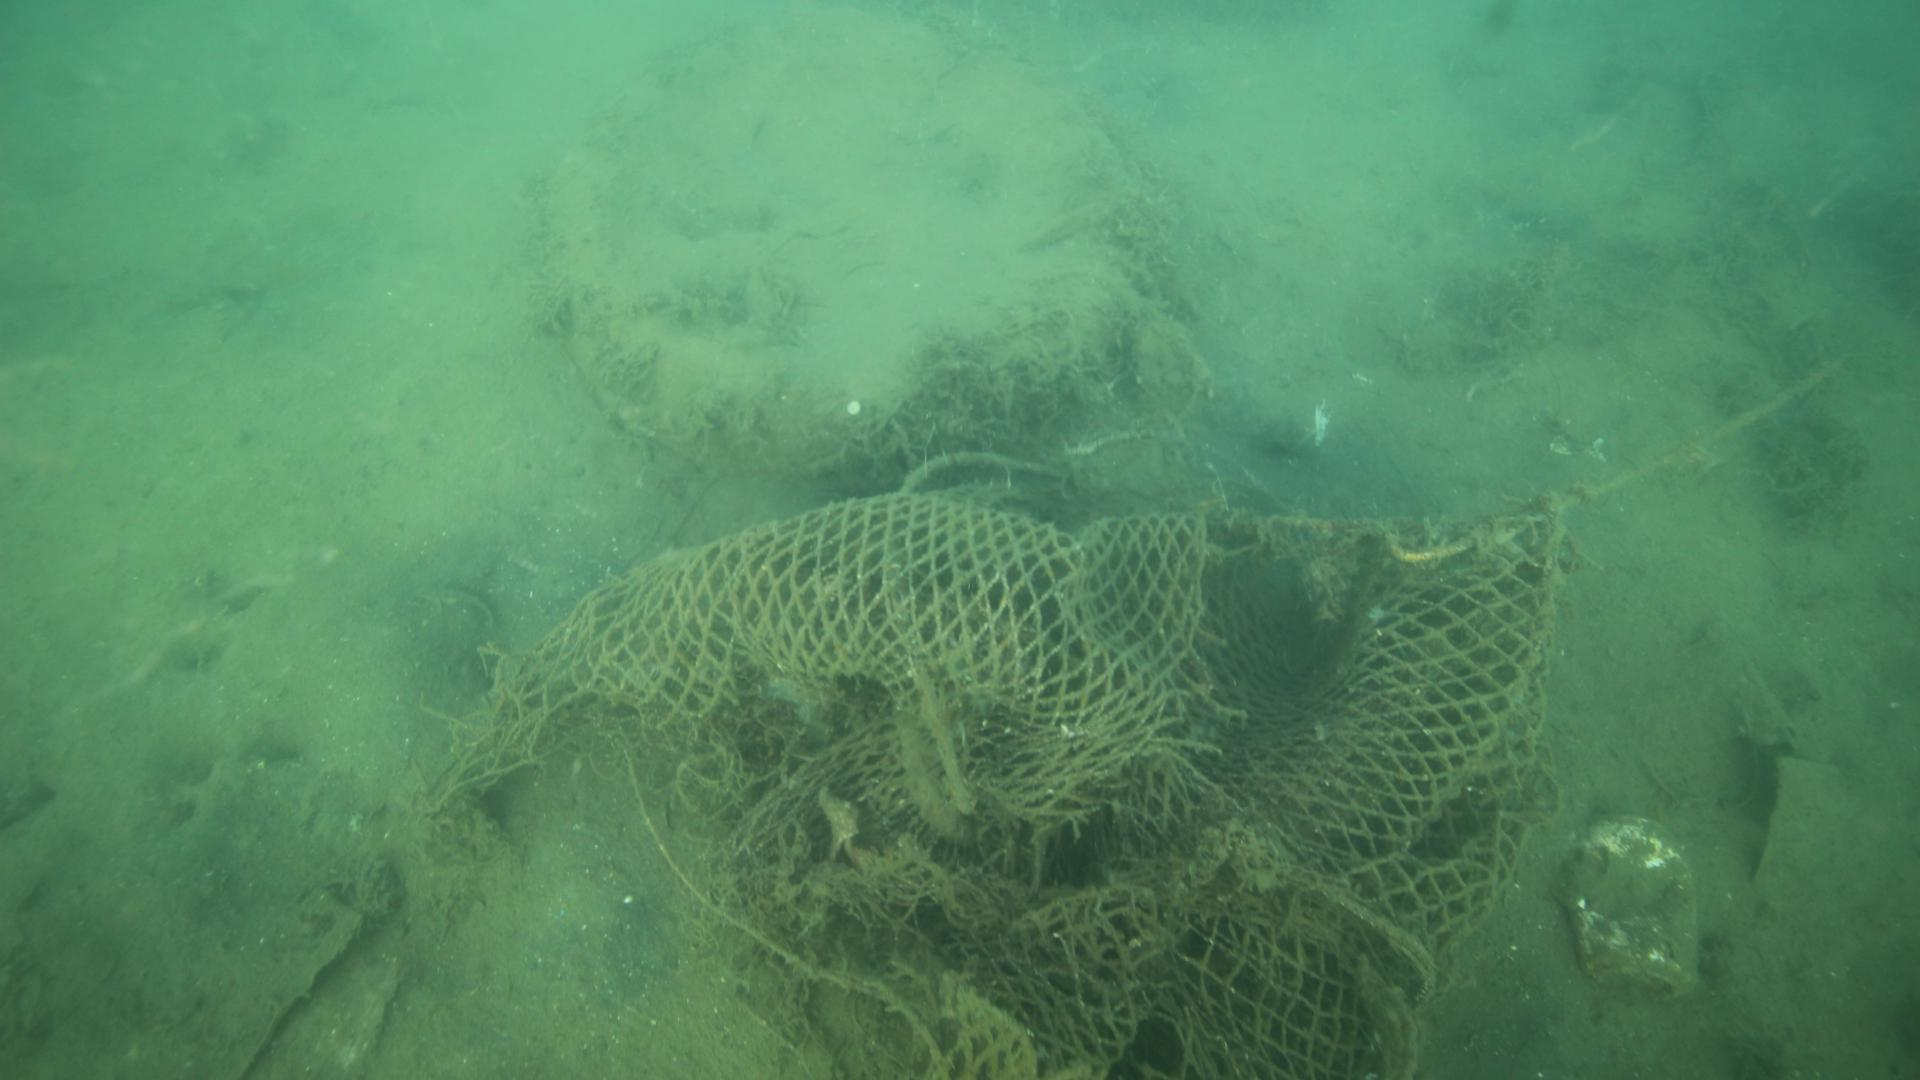fish net: (444, 491, 1576, 1080)
